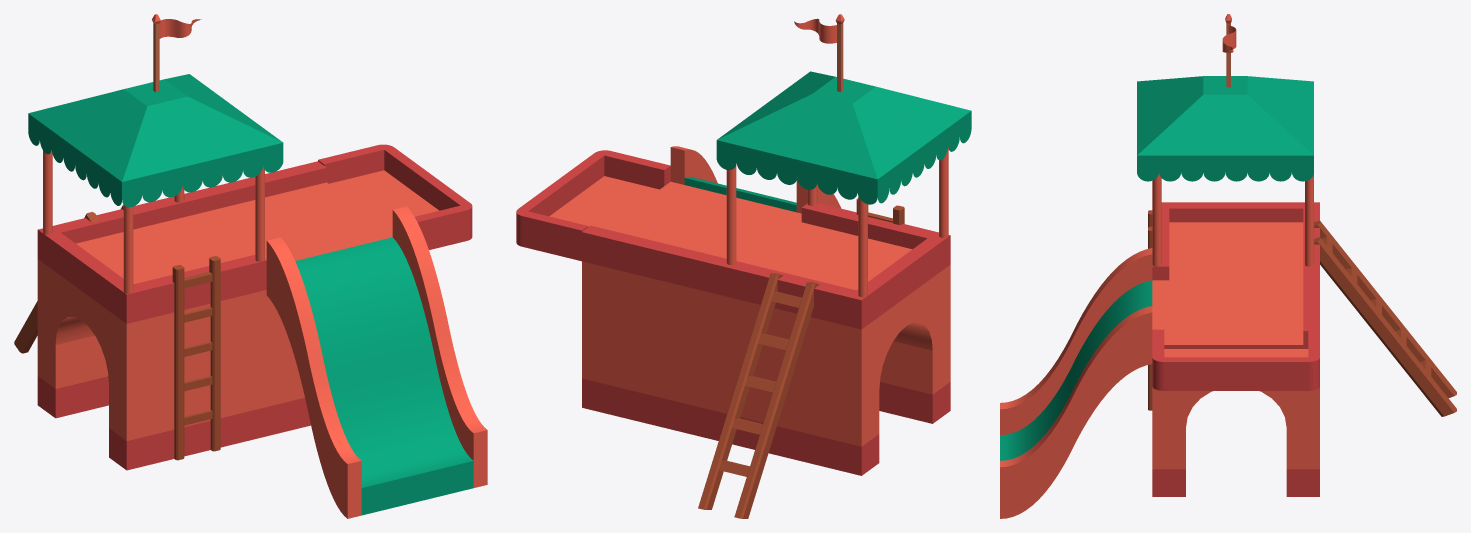
The model's file is playground.glb.
3 views of the same model, side by side, from view 1: azimuth 30°, elevation 25°; view 2: azimuth 150°, elevation 25°; view 3: azimuth 270°, elevation 25° (orthographic). The views are drawn at different scales.
Visible parts, largest first — view 1: slope_smoothC, block_gate% (×2), awning_corner (×4), roof_flatOpen, roof_flatEdge, detail_balcony, detail_ladder, columns_roundSmall% (×2), detail_flag, detail_ladderDiagonal; view 2: block_gate% (×2), awning_corner (×4), roof_flatOpen, roof_flatEdge, detail_balcony, detail_ladderDiagonal, columns_roundSmall% (×2), slope_smoothC, detail_flag; view 3: awning_corner (×4), slope_smoothC, roof_flatOpen, roof_flatEdge, block_gate%, detail_balcony, detail_ladderDiagonal, columns_roundSmall% (×2), detail_flag.
Part boxes in pixels (<box>): slope_smoothC: <box>266,206,487,518</box>; block_gate% (×2): <box>37,259,310,470</box>; awning_corner (×4): <box>28,74,283,207</box>; roof_flatOpen: <box>37,196,266,323</box>; roof_flatEdge: <box>184,161,392,260</box>; detail_balcony: <box>318,144,472,249</box>; detail_ladder: <box>172,256,220,460</box>; columns_roundSmall% (×2): <box>43,150,264,293</box>; detail_flag: <box>152,14,201,92</box>; detail_ladderDiagonal: <box>14,204,136,353</box>; block_gate% (×2): <box>582,261,950,475</box>; awning_corner (×4): <box>716,71,971,204</box>; roof_flatOpen: <box>721,203,950,329</box>; roof_flatEdge: <box>582,181,801,295</box>; detail_balcony: <box>516,150,670,261</box>; detail_ladderDiagonal: <box>698,273,819,518</box>; columns_roundSmall% (×2): <box>726,146,948,297</box>; slope_smoothC: <box>670,146,841,213</box>; detail_flag: <box>794,14,844,91</box>; awning_corner (×4): <box>1137,76,1313,181</box>; slope_smoothC: <box>1000,248,1152,518</box>; roof_flatOpen: <box>1152,202,1319,280</box>; roof_flatEdge: <box>1152,266,1319,348</box>; block_gate%: <box>1152,387,1319,496</box>; detail_balcony: <box>1152,329,1319,390</box>; detail_ladderDiagonal: <box>1314,220,1456,416</box>; columns_roundSmall% (×2): <box>1152,173,1313,266</box>; detail_flag: <box>1222,14,1236,87</box>.
Size of the model in its own units: 2.59 by 2.95 by 3.
